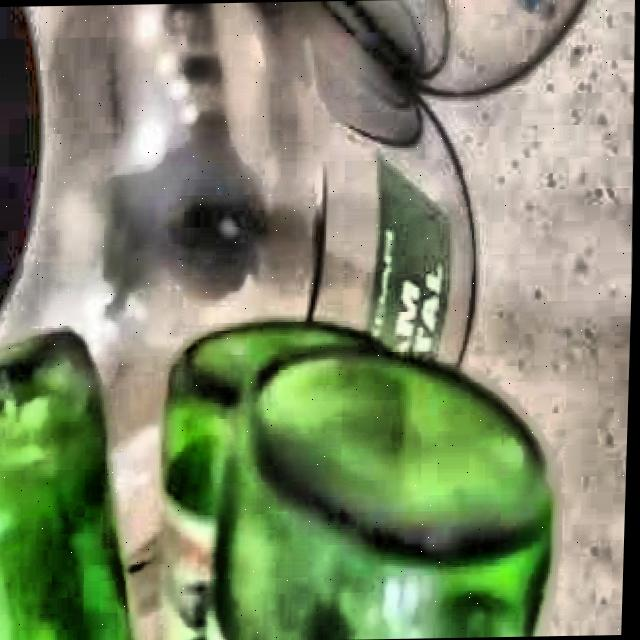glass: (160, 320, 556, 640)
